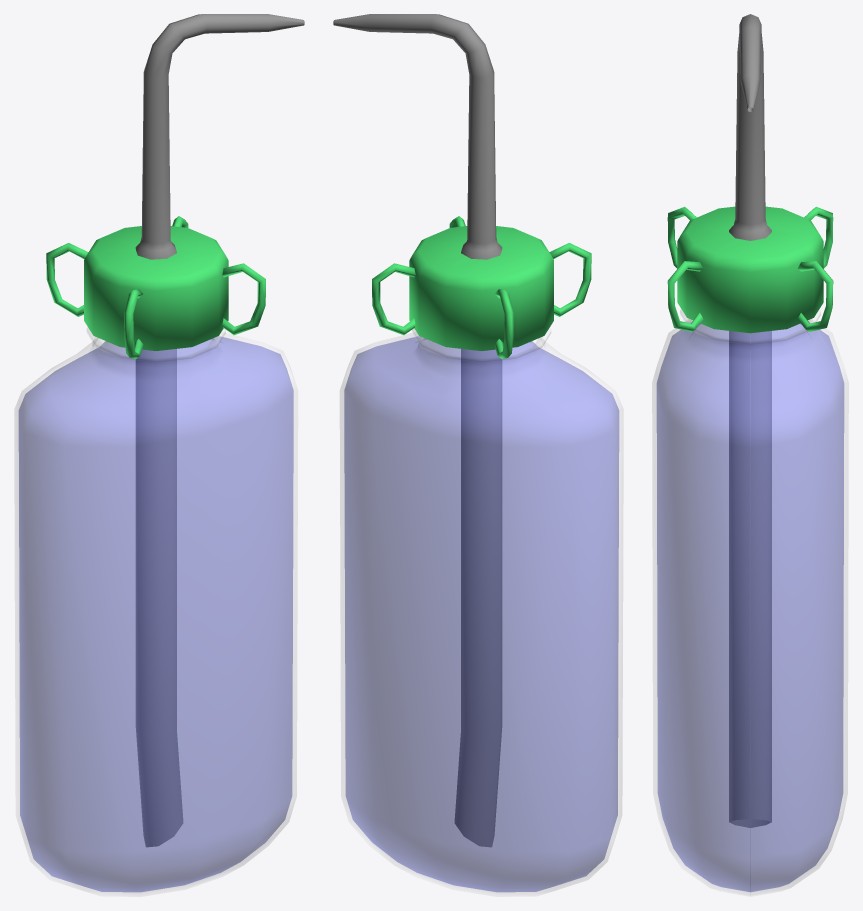
File: weapon_bottle.glb
The picture shows the model from 3 angles, left to right: view 1: azimuth 30°, elevation 25°; view 2: azimuth 150°, elevation 25°; view 3: azimuth 270°, elevation 25°; orthographic projection.
Visible parts, largest first — view 1: BottleBody, Bottle0WaterInside, BottleStraw, BottleHandles; view 2: BottleBody, Bottle0WaterInside, BottleStraw, BottleHandles; view 3: BottleBody, Bottle0WaterInside, BottleStraw, BottleHandles.
Boxes of the visible parts, x1,y1,x2,y2 form: BottleBody: (14, 226, 297, 896); Bottle0WaterInside: (19, 336, 293, 891); BottleStraw: (135, 14, 304, 846); BottleHandles: (46, 216, 265, 359); BottleBody: (340, 226, 623, 896); Bottle0WaterInside: (344, 336, 618, 891); BottleStraw: (333, 14, 502, 846); BottleHandles: (372, 216, 591, 359); BottleBody: (652, 206, 848, 896); Bottle0WaterInside: (657, 323, 843, 891); BottleStraw: (729, 14, 771, 827); BottleHandles: (667, 206, 833, 331).
Bounding box in the file's own units: 1.5 × 4.3 × 0.8971.
